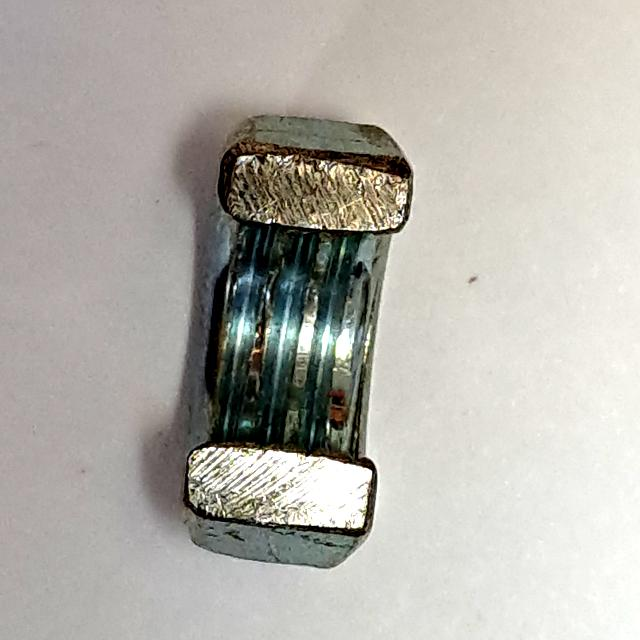Side-Fracture: (160, 100, 427, 578)
